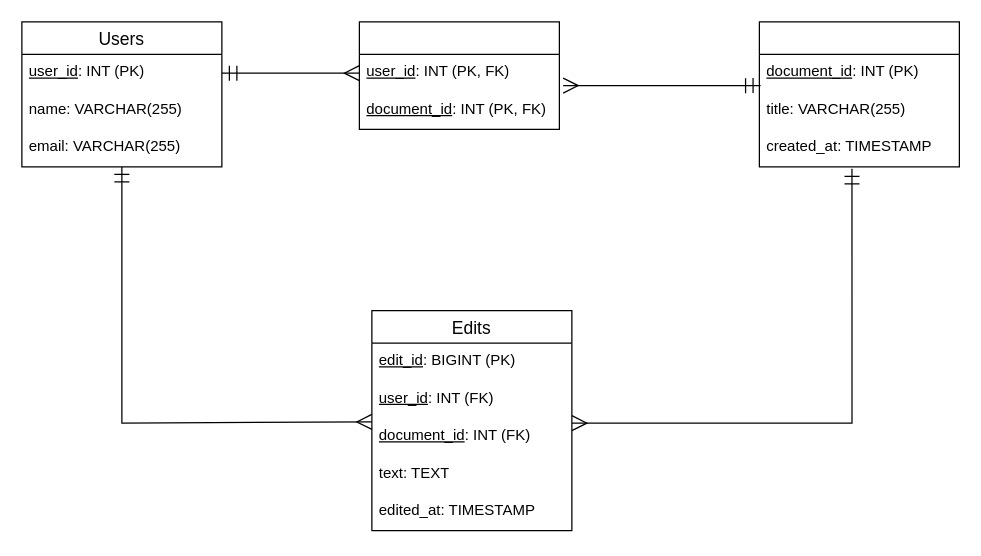
Some shapes in this 981 by 556 pixel diagram are drawn without their labels. Here are the shapes that lost their labels. From the top down, the box of each, then its label:
(358, 21, 559, 129): Collaborators
(758, 21, 959, 167): Documents
